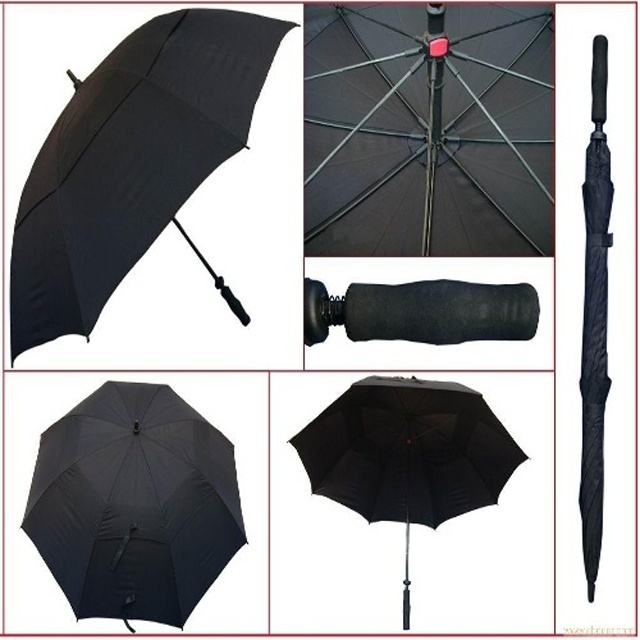umbrella: (8, 6, 302, 369), (304, 1, 554, 255), (287, 375, 533, 632), (17, 377, 250, 632), (576, 32, 614, 604)
